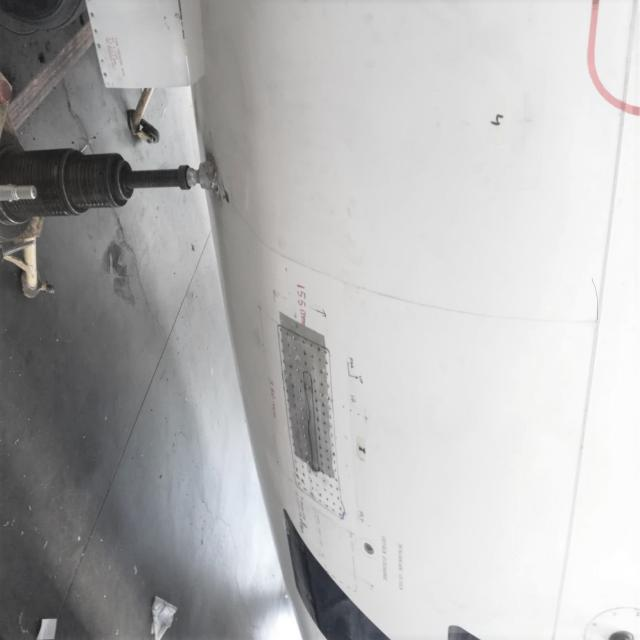Rupture: (589, 265, 603, 329)
